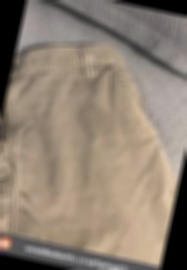oil: (64, 96, 109, 148)
